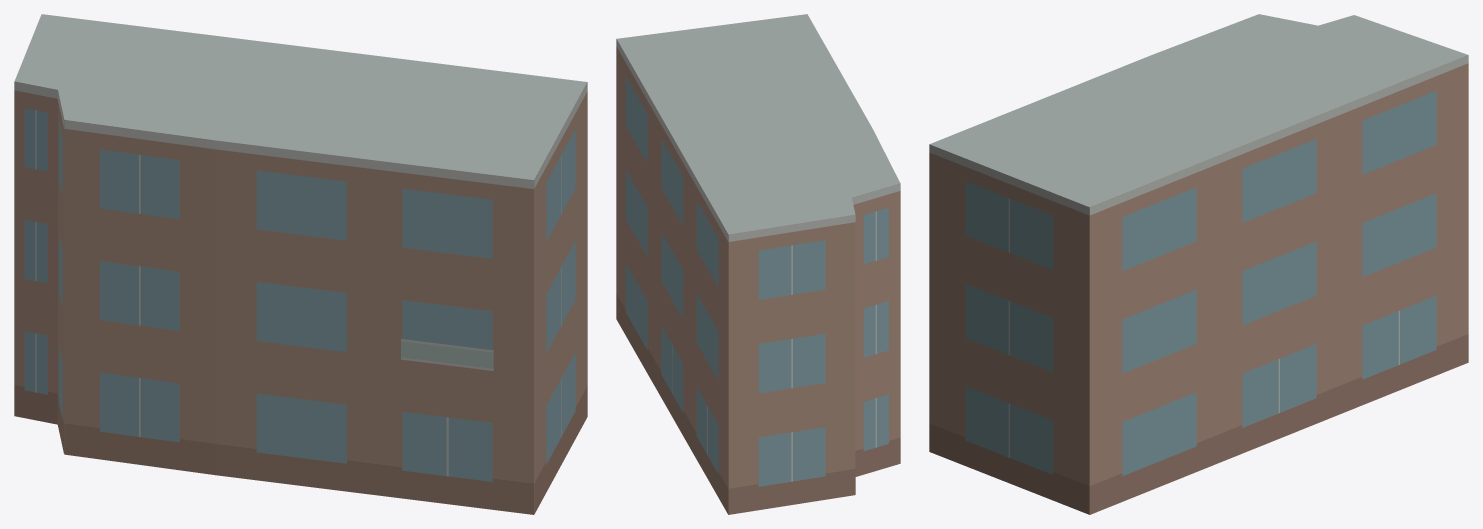
The model's file is survey-upis-32936390.glb.
3 views of the same model, side by side, from view 1: azimuth 30°, elevation 25°; view 2: azimuth 150°, elevation 25°; view 3: azimuth 270°, elevation 25° (orthographic). The views are drawn at different scales.
Parts seen in each view (by area): view 1: survey-upis-32936390.tmp; view 2: survey-upis-32936390.tmp; view 3: survey-upis-32936390.tmp.
Boxes of the visible parts, x1,y1,x2,y2 form: survey-upis-32936390.tmp: (14,14,587,514); survey-upis-32936390.tmp: (616,14,900,514); survey-upis-32936390.tmp: (929,14,1468,514).
Bounding box in the file's own units: 12.35 × 9.15 × 14.55.
